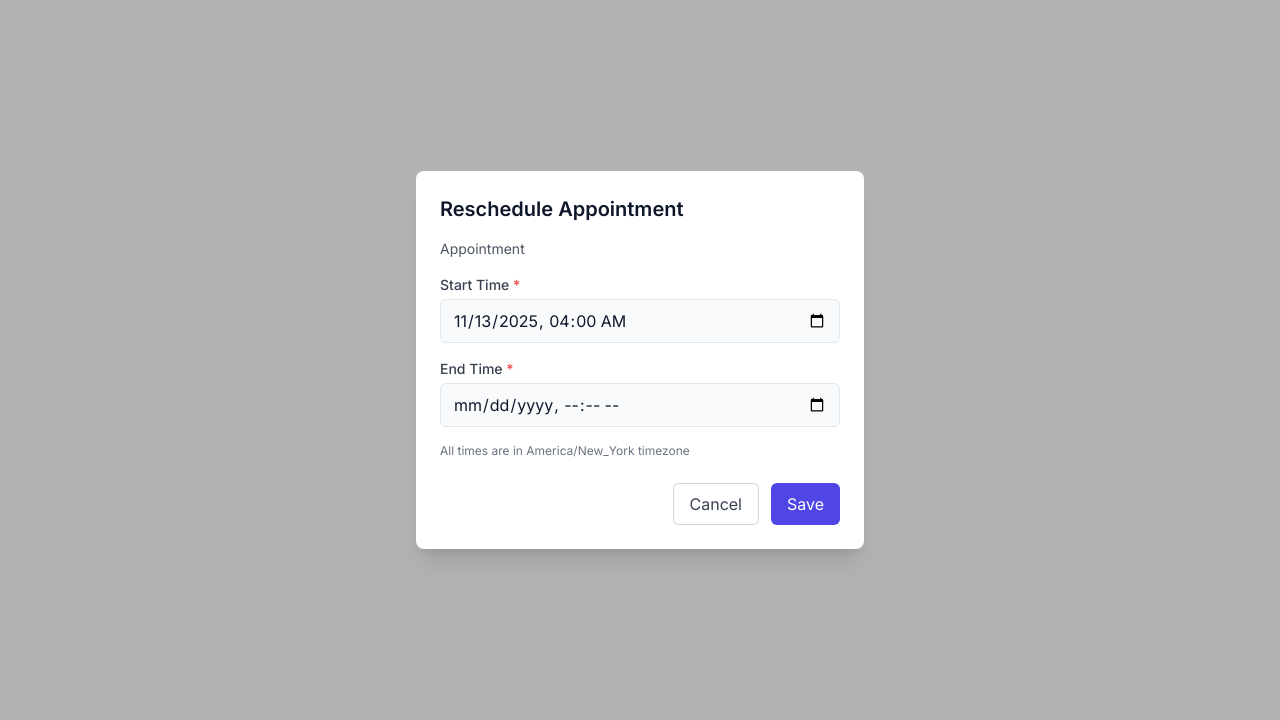
Test: RescheduleModal › Validation error messaging › should show error when end time is empty and form is submitted
What coordinates should you click on to do the following:
click the button "Save"
I would click on:
 (806, 504)
Its box is x1=771 y1=483 x2=840 y2=525.
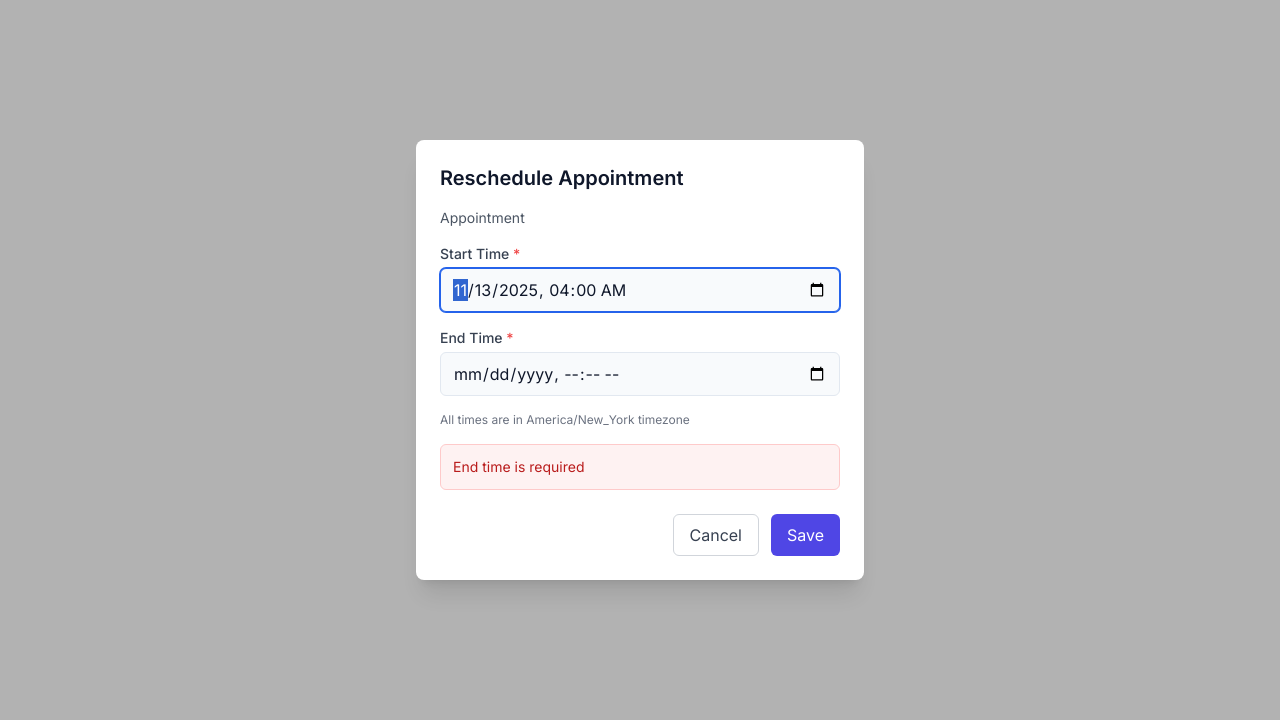
Now the text "End time is required" is shown, box x1=440 y1=444 x2=840 y2=490
